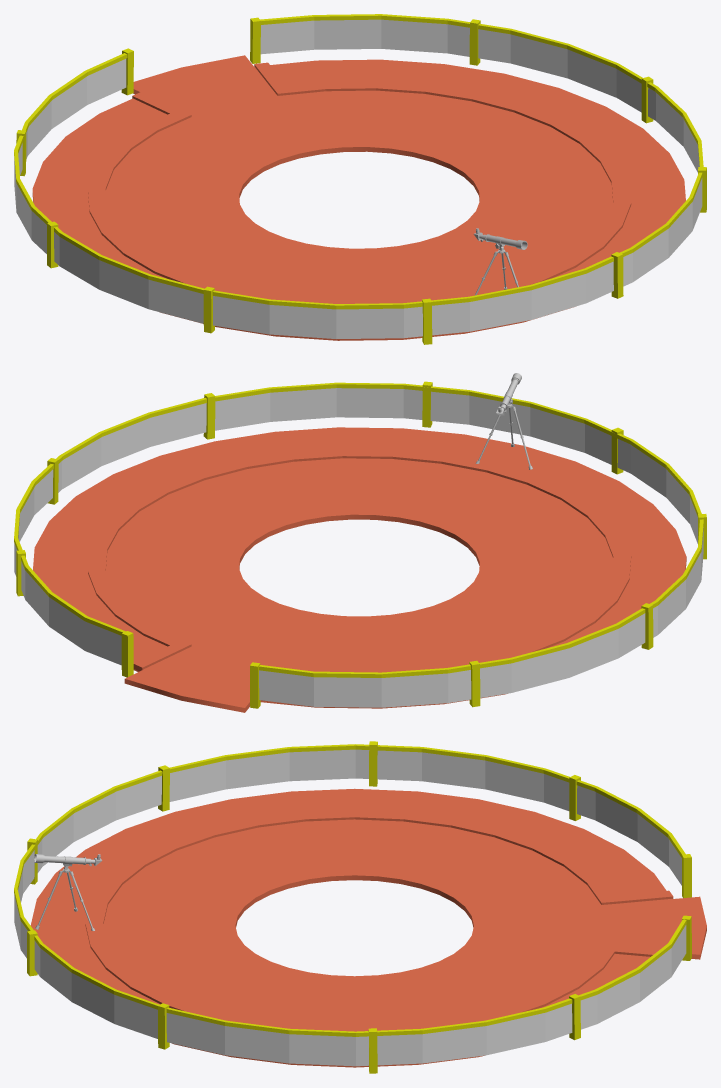
The model's file is Map_Design.fbx.
3 views of the same model, one above another, from view 1: azimuth 30°, elevation 25°; view 2: azimuth 150°, elevation 25°; view 3: azimuth 270°, elevation 25° (orthographic).
Visible parts, largest first — view 1: Tower_Base, Glass; view 2: Tower_Base, Glass; view 3: Tower_Base, Glass.
Part boxes in pixels (<box>): Tower_Base: <box>14,14,706,344</box>; Glass: <box>14,19,702,338</box>; Tower_Base: <box>14,373,706,712</box>; Glass: <box>14,388,703,707</box>; Tower_Base: <box>14,741,706,1073</box>; Glass: <box>14,749,686,1066</box>.
Bounding box in the file's own units: 3169 × 396 × 3192.
